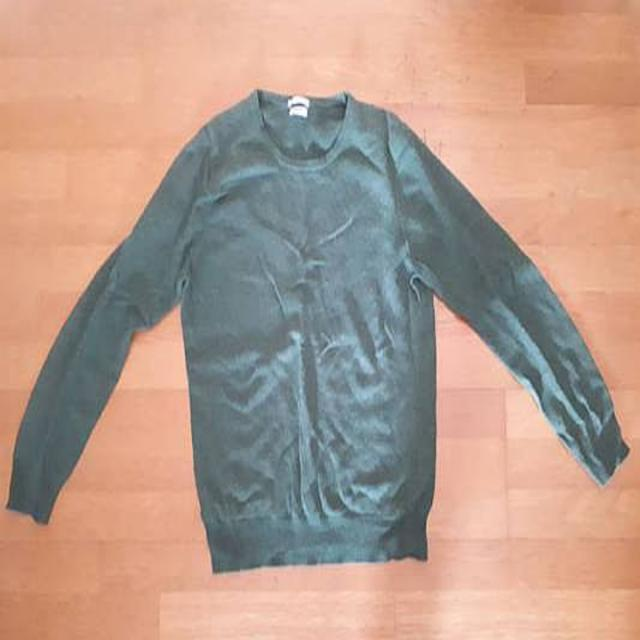SHIRT: (2, 81, 640, 577)
